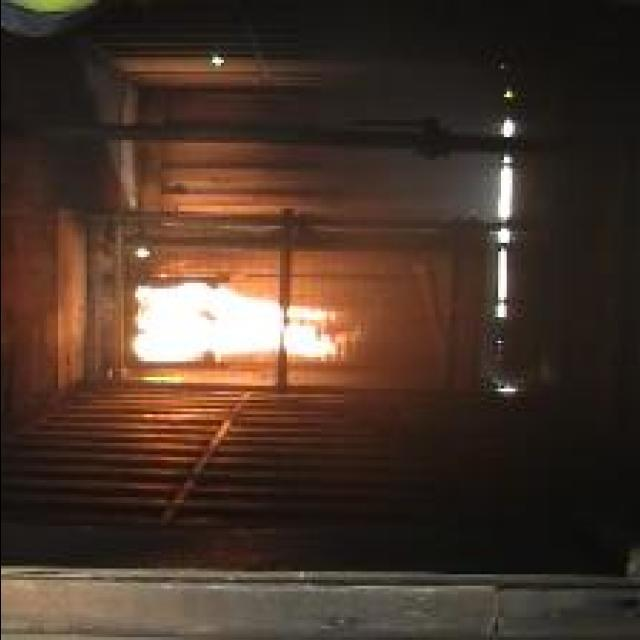Fire: (133, 284, 361, 362)
